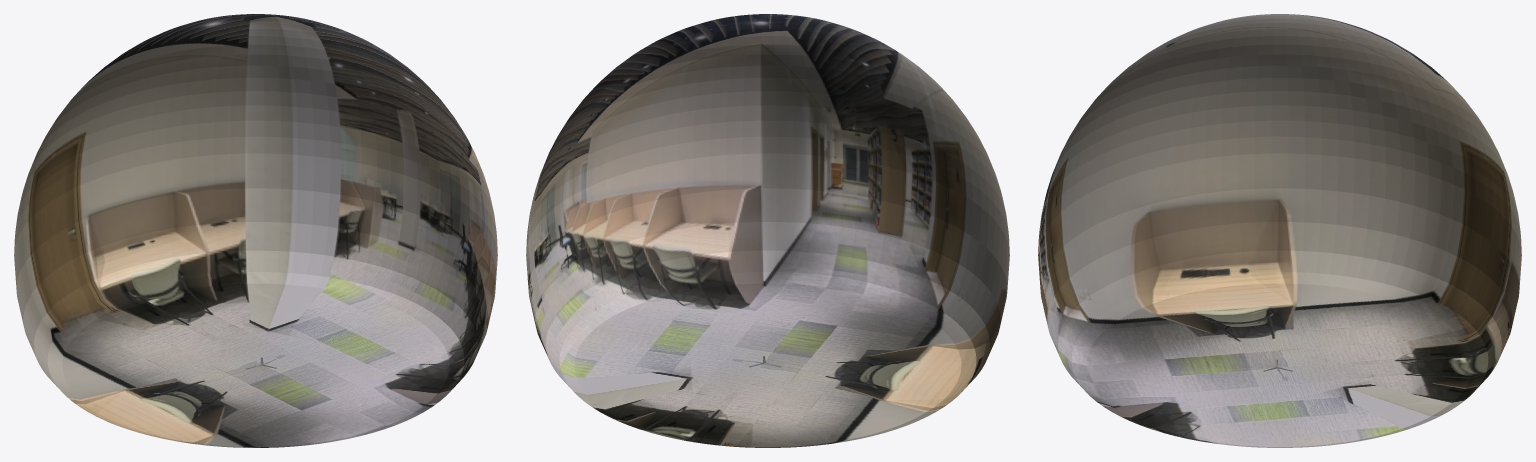
The model's file is library-corridor-038.glb.
3 renders of one model, left to right at view 1: azimuth 30°, elevation 25°; view 2: azimuth 150°, elevation 25°; view 3: azimuth 270°, elevation 25°, orthographic.
Bounding box in the file's own units: 2 × 1.5 × 2.
1 material, 1 textured.
